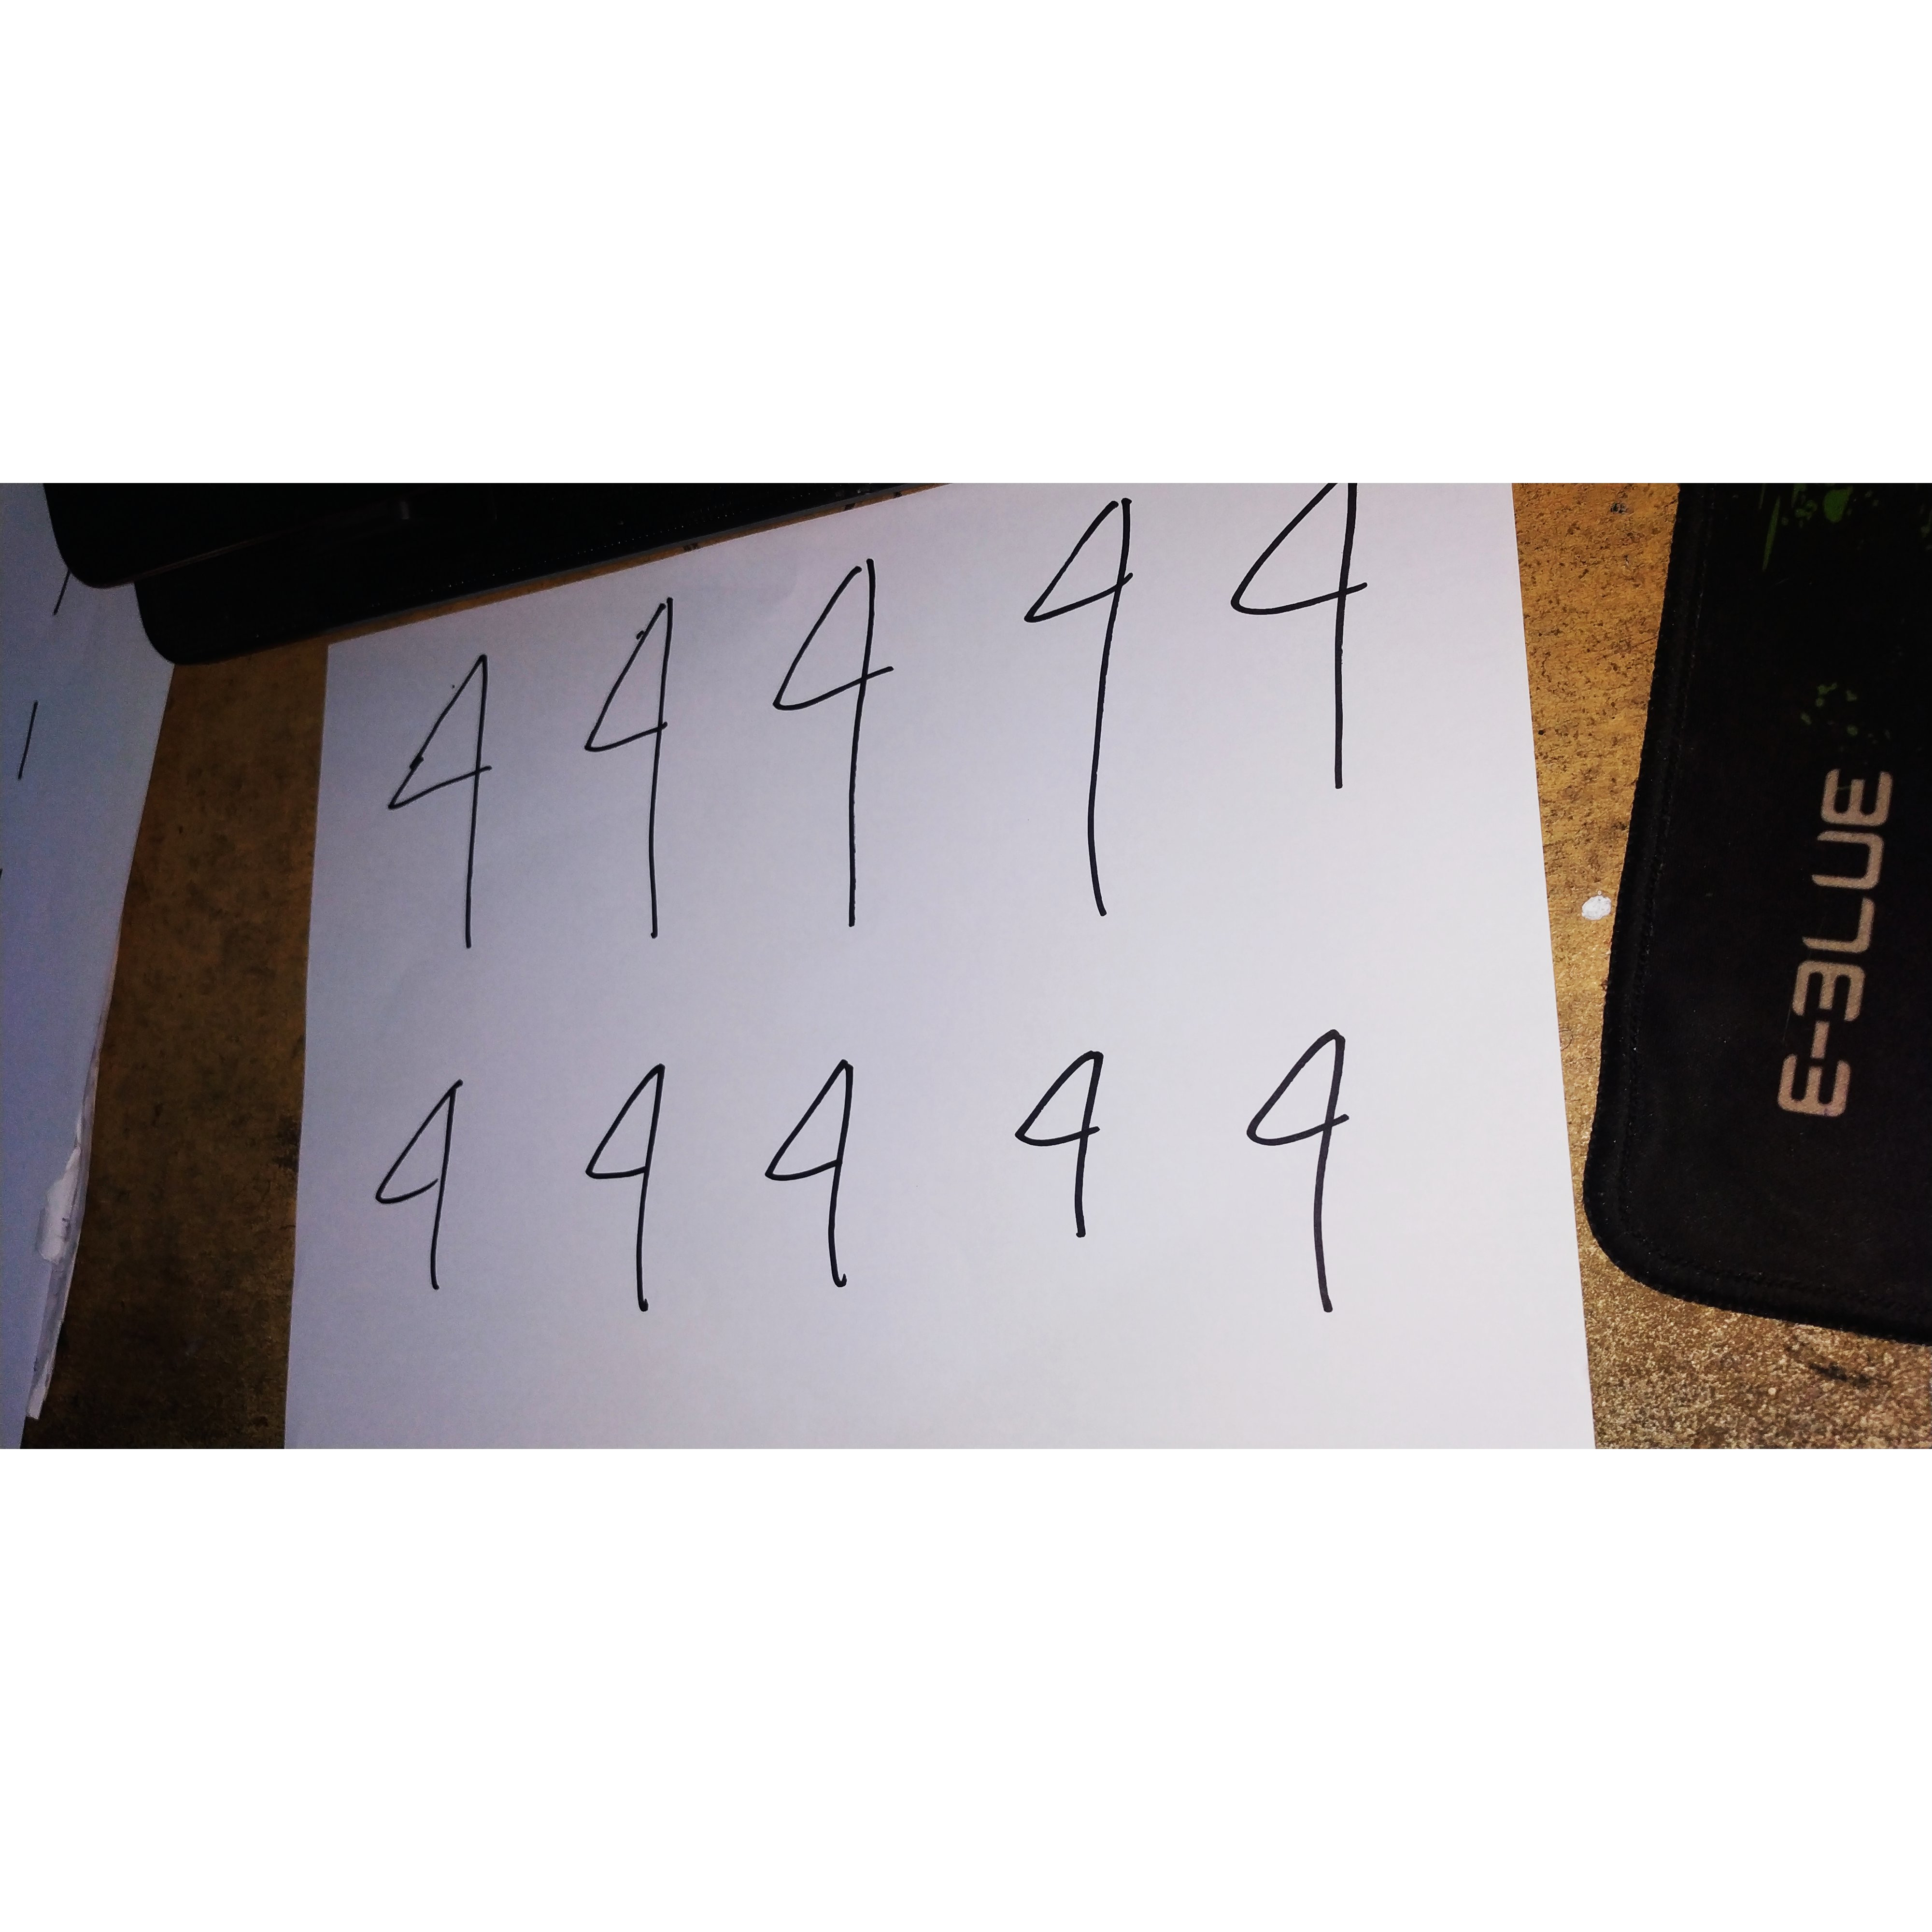num4: (1009, 489, 1179, 938), (765, 554, 923, 928), (568, 592, 727, 949), (355, 657, 536, 962), (1238, 1021, 1404, 1327), (744, 1048, 900, 1317), (362, 1069, 497, 1312), (1009, 1029, 1154, 1250), (572, 1056, 677, 1335)
